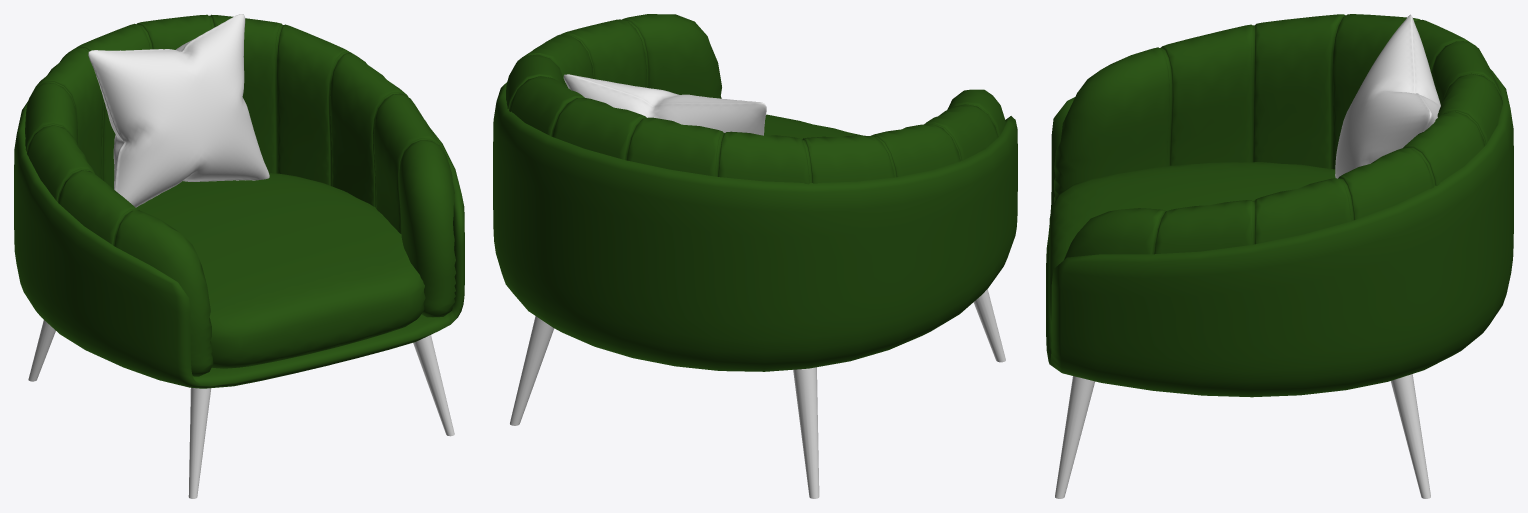
The model's file is SofaChair.fbx.
3 views of the same model, side by side, from view 1: azimuth 30°, elevation 25°; view 2: azimuth 150°, elevation 25°; view 3: azimuth 270°, elevation 25° (orthographic). The views are drawn at different scales.
Visible parts, largest first — view 1: Chair; view 2: Chair; view 3: Chair.
Boxes of the visible parts, bbox=[...] form: Chair: bbox=[14, 14, 464, 498]; Chair: bbox=[493, 14, 1017, 498]; Chair: bbox=[1046, 14, 1513, 498].
Size of the model in its own units: 1.69 by 1.39 by 1.6.
